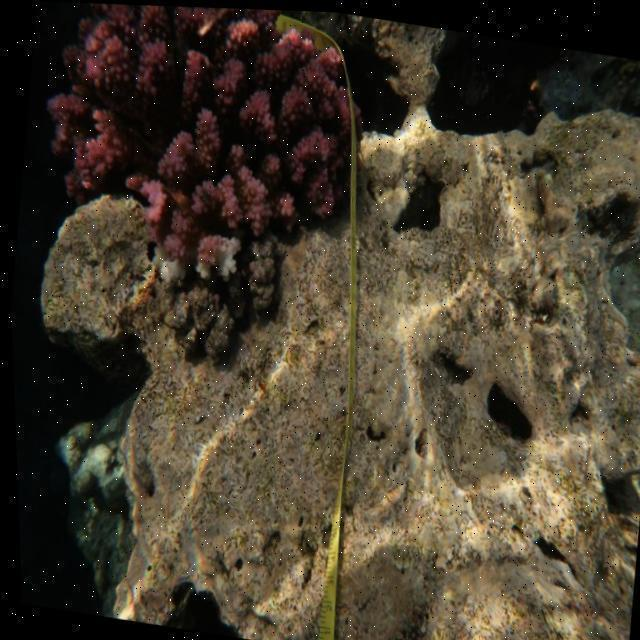Bleached Coral: (135, 236, 191, 293), (195, 239, 240, 281)
Healthy Coral: (33, 1, 360, 254)
